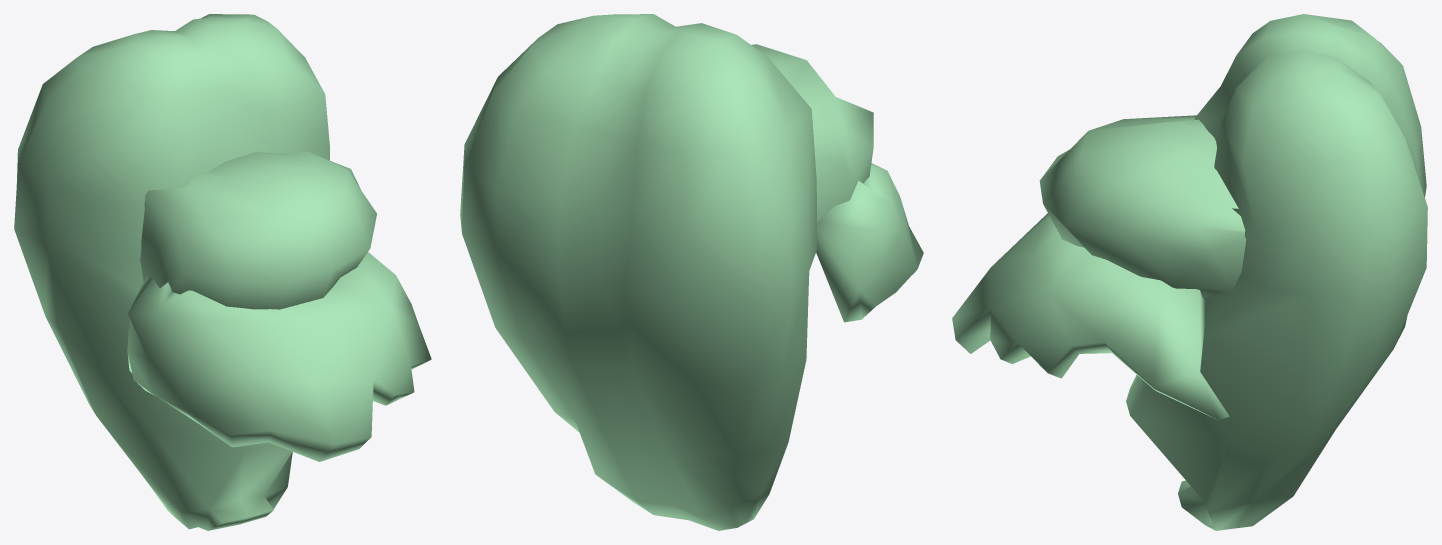
The model's file is Mane_04.fbx.
The picture shows the model from 3 angles, left to right: view 1: azimuth 30°, elevation 25°; view 2: azimuth 150°, elevation 25°; view 3: azimuth 270°, elevation 25°; orthographic projection. The views are drawn at different scales.
Visible parts, largest first — view 1: Mane_04; view 2: Mane_04; view 3: Mane_04.
Part boxes in pixels (left/top/right/bottom): Mane_04: left=14, top=14, right=431, bottom=530; Mane_04: left=460, top=14, right=923, bottom=530; Mane_04: left=952, top=14, right=1427, bottom=530.
Bounding box in the file's own units: 169 × 247 × 226.
